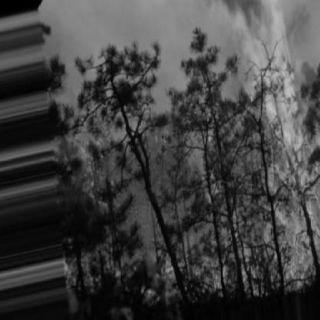Fire: (214, 2, 316, 292), (76, 216, 214, 294)
